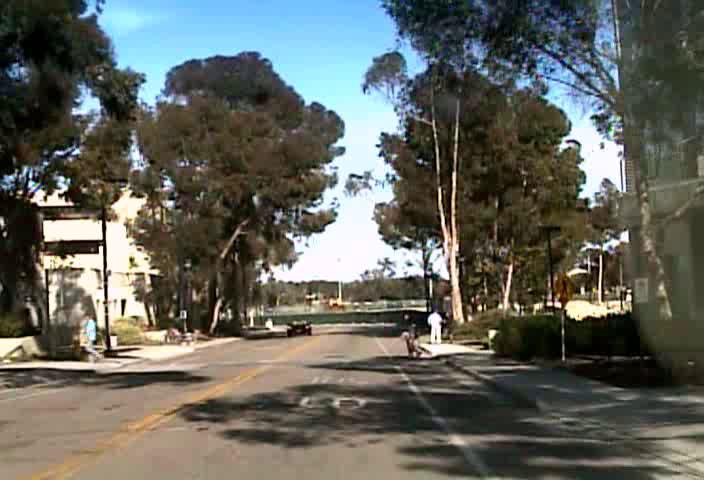pedestrianCrossing: (550, 273, 579, 306)
